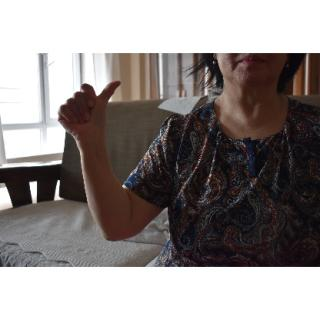DAD: (53, 73, 124, 150)
